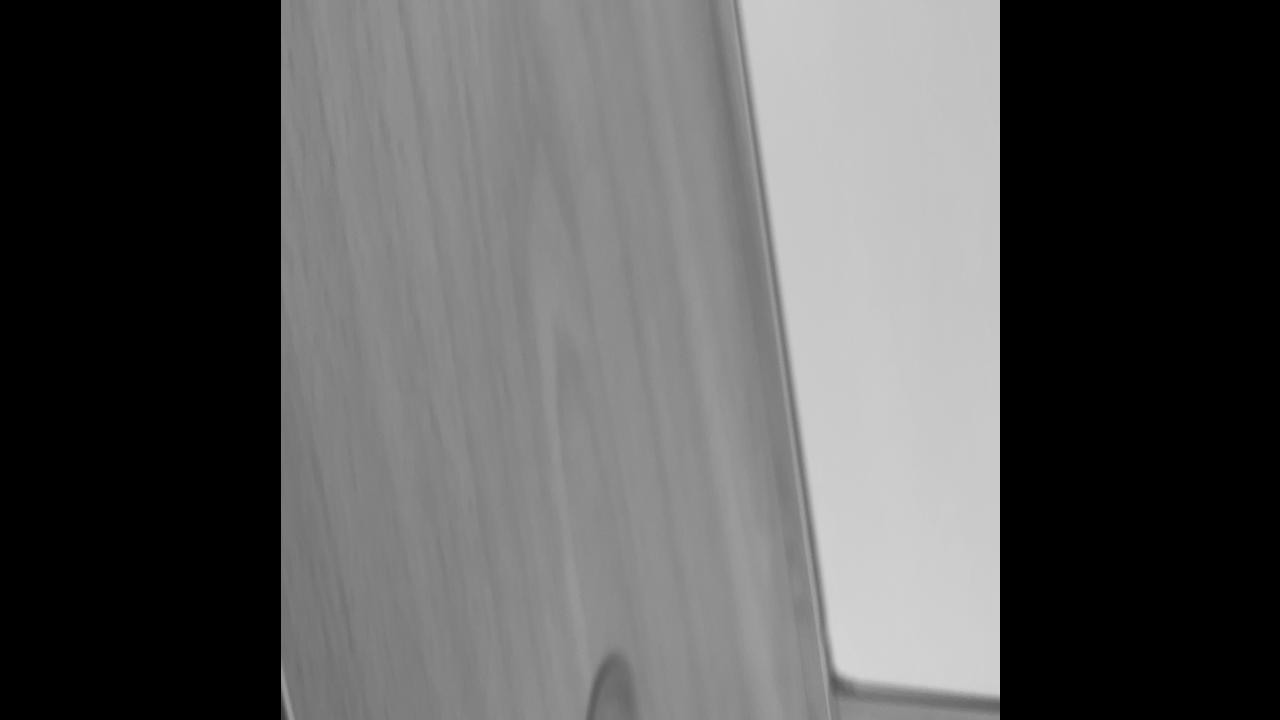coin: (583, 653, 644, 720)
